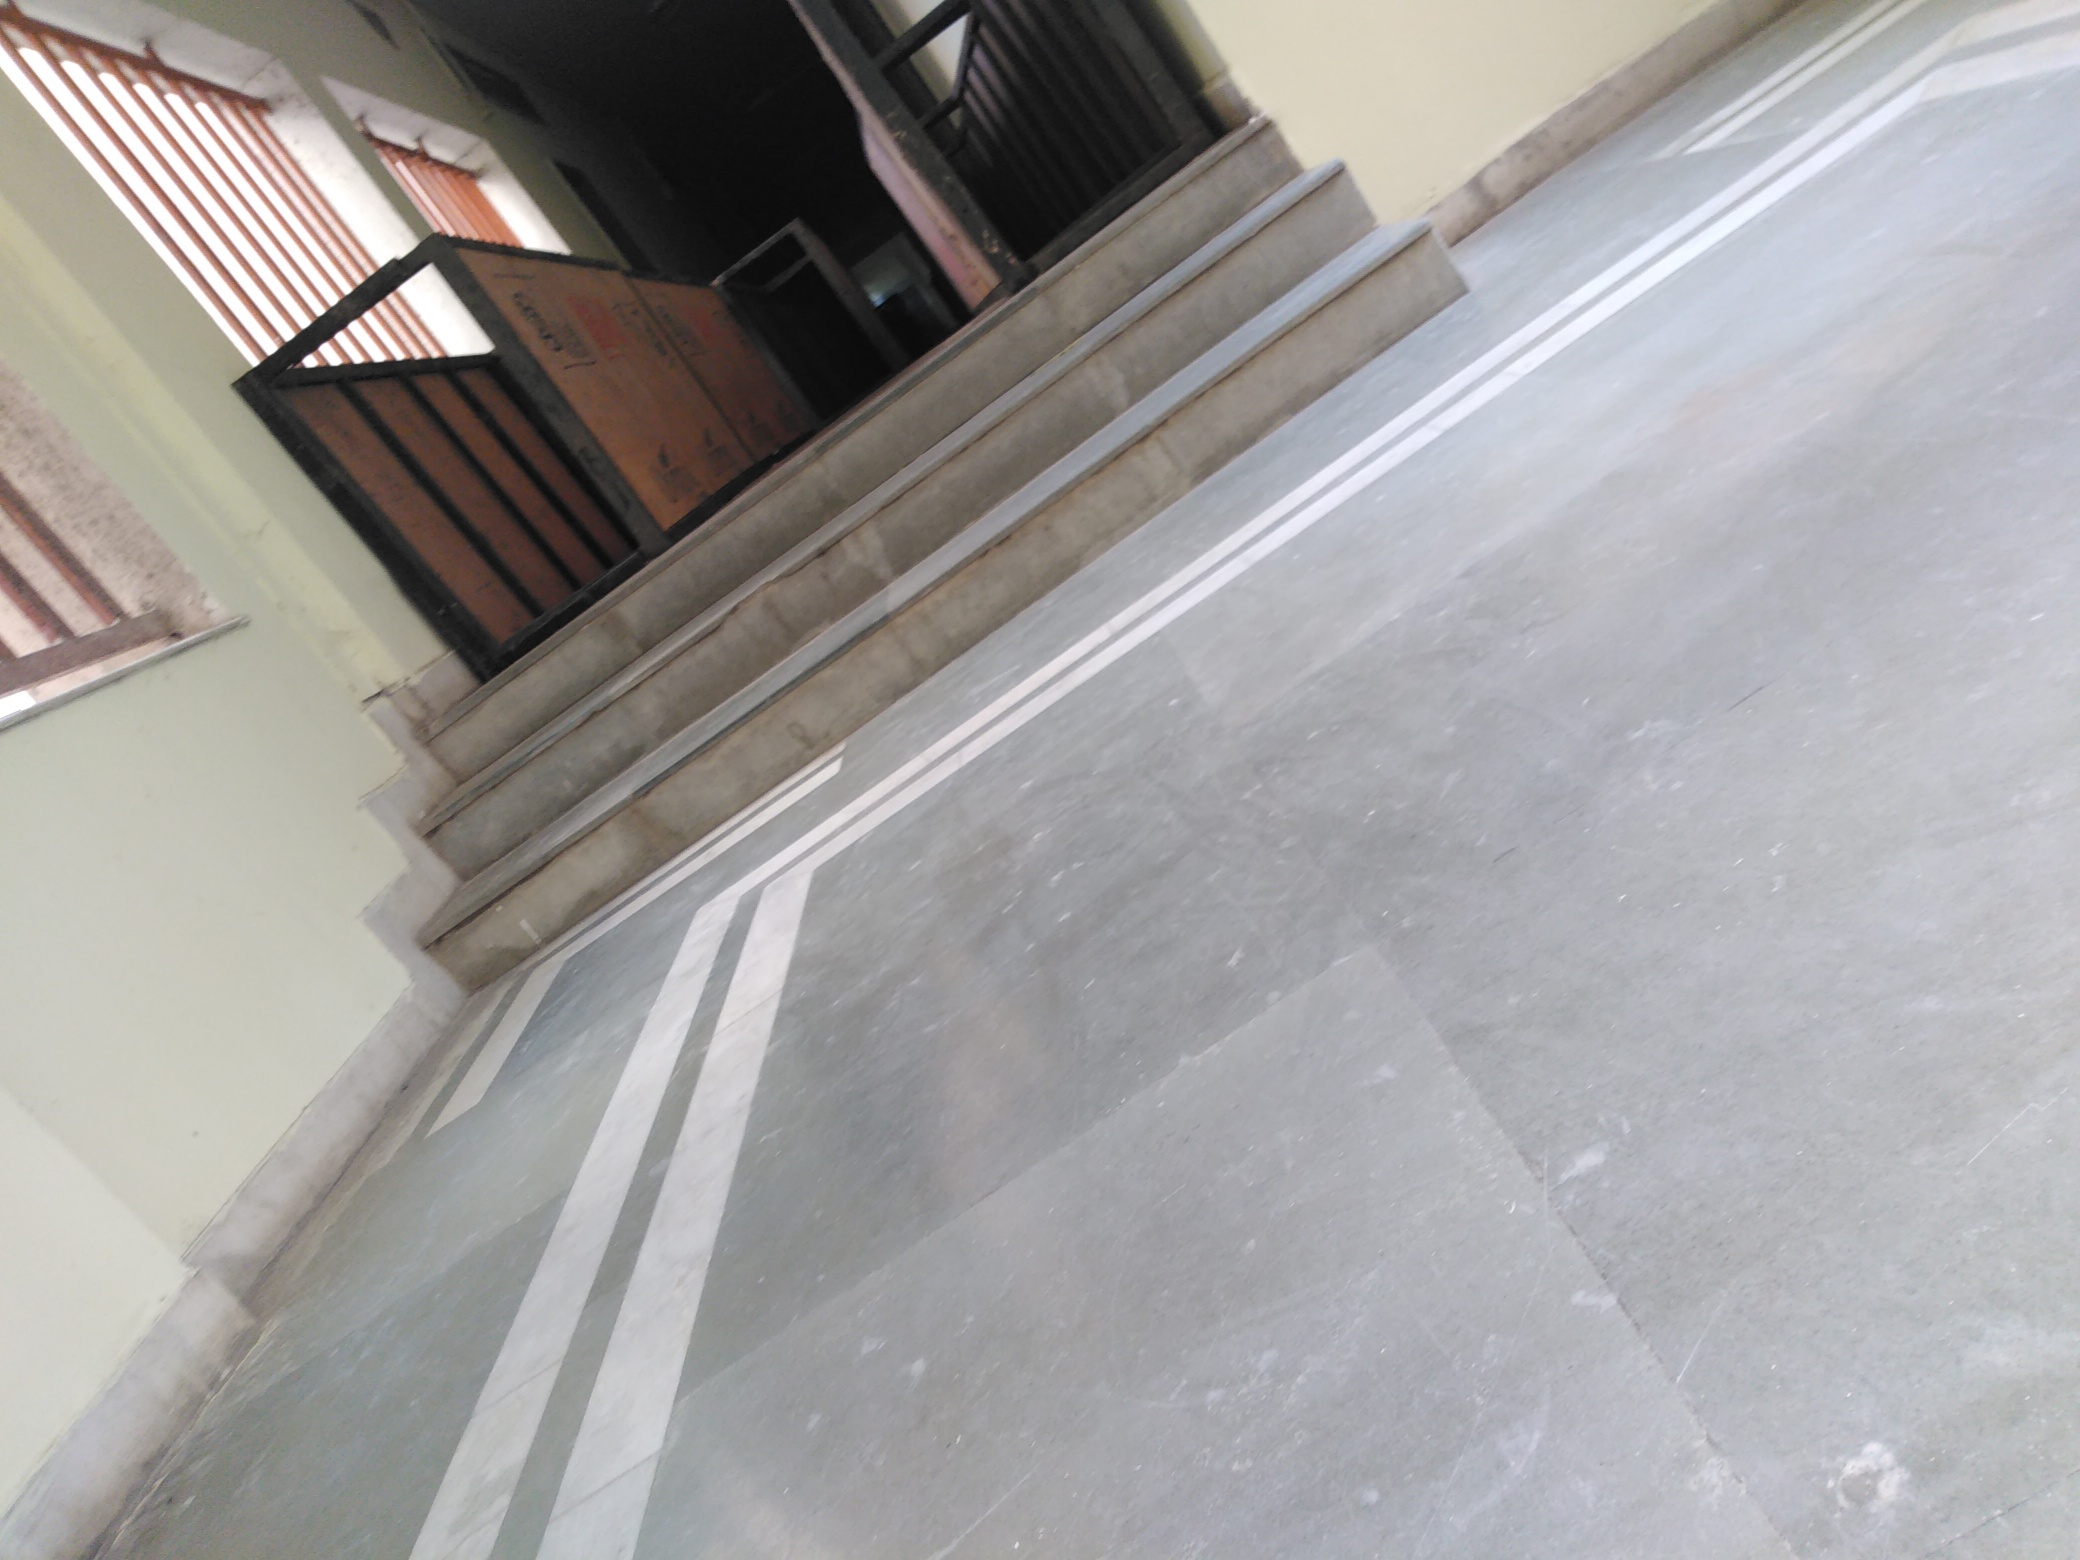stairs_up: (408, 147, 1264, 790)
